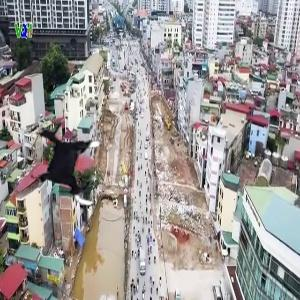drone: (21, 112, 124, 215)
